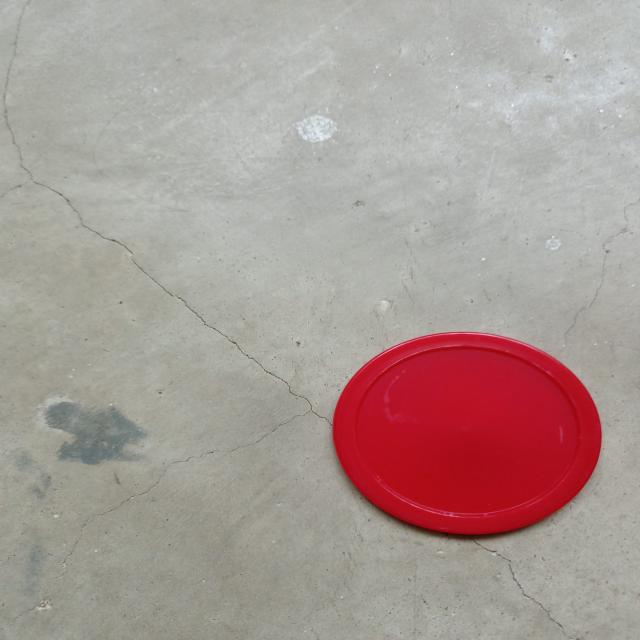chip: (334, 332, 601, 537)
